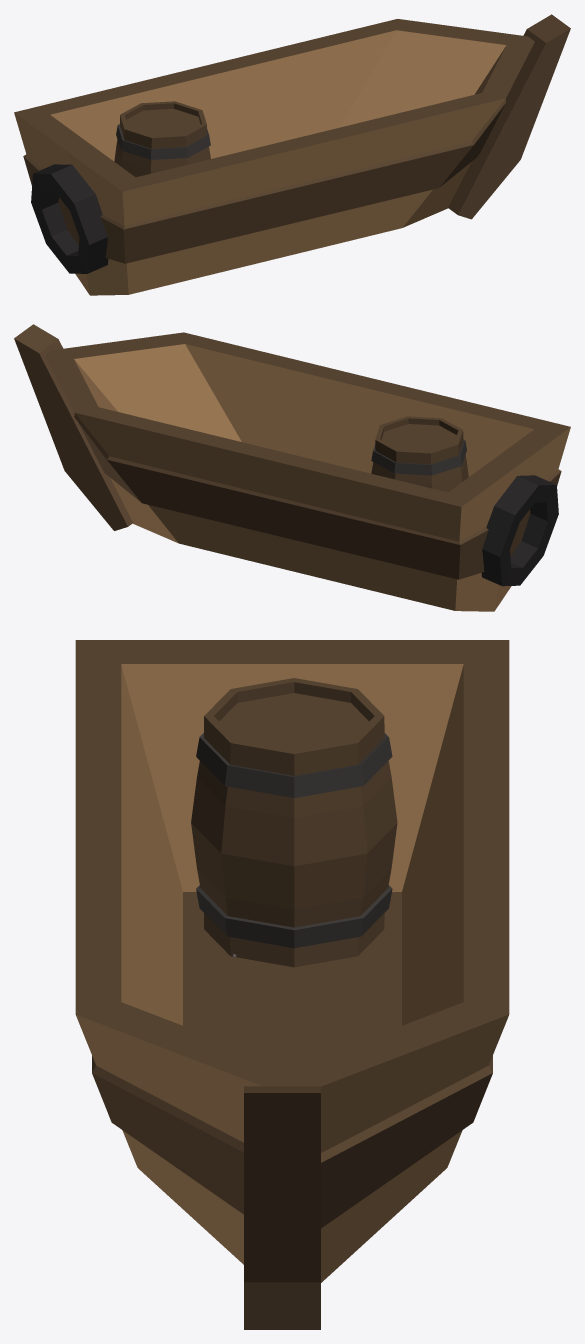
File: SmallShip.fbx
The picture shows the model from 3 angles, top to bottom: view 1: azimuth 30°, elevation 25°; view 2: azimuth 150°, elevation 25°; view 3: azimuth 270°, elevation 25°; orthographic projection. The views are drawn at different scales.
Parts seen in each view (by area): view 1: Cube.006, Cylinder.004; view 2: Cube.006, Cylinder.004; view 3: Cube.006, Cylinder.004.
Boxes of the visible parts, bbox=[...] form: Cube.006: bbox=[14, 14, 570, 295]; Cylinder.004: bbox=[114, 101, 210, 177]; Cube.006: bbox=[14, 324, 570, 611]; Cylinder.004: bbox=[371, 416, 468, 492]; Cube.006: bbox=[75, 640, 509, 1329]; Cylinder.004: bbox=[191, 678, 397, 967].
Size of the model in its own units: 166 by 141 by 452.
